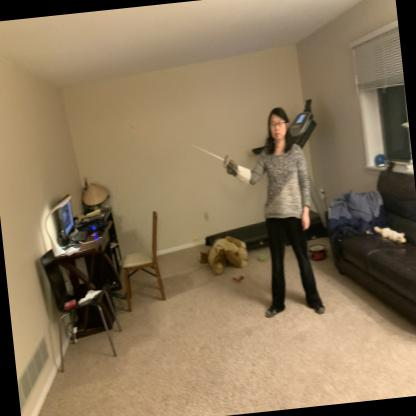foil-tip: (126, 120, 146, 138)
hand-and-foil: (122, 105, 252, 198)
